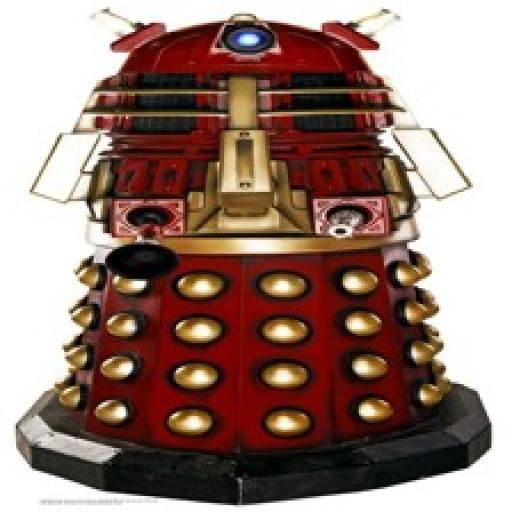dalek: (17, 4, 493, 505)
